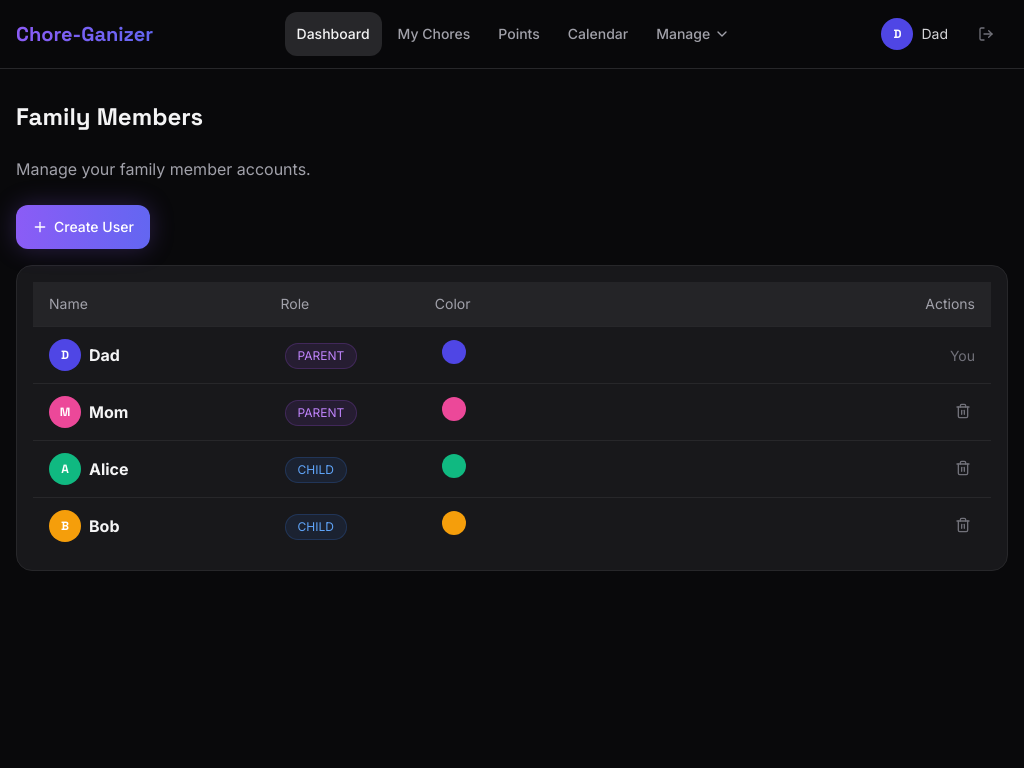
Test case: UsersPage › shows delete confirmation when delete icon clicked
Click the button named "Delete user" in the row of "Mom": {"x": 963, "y": 411} [951,399,975,423]
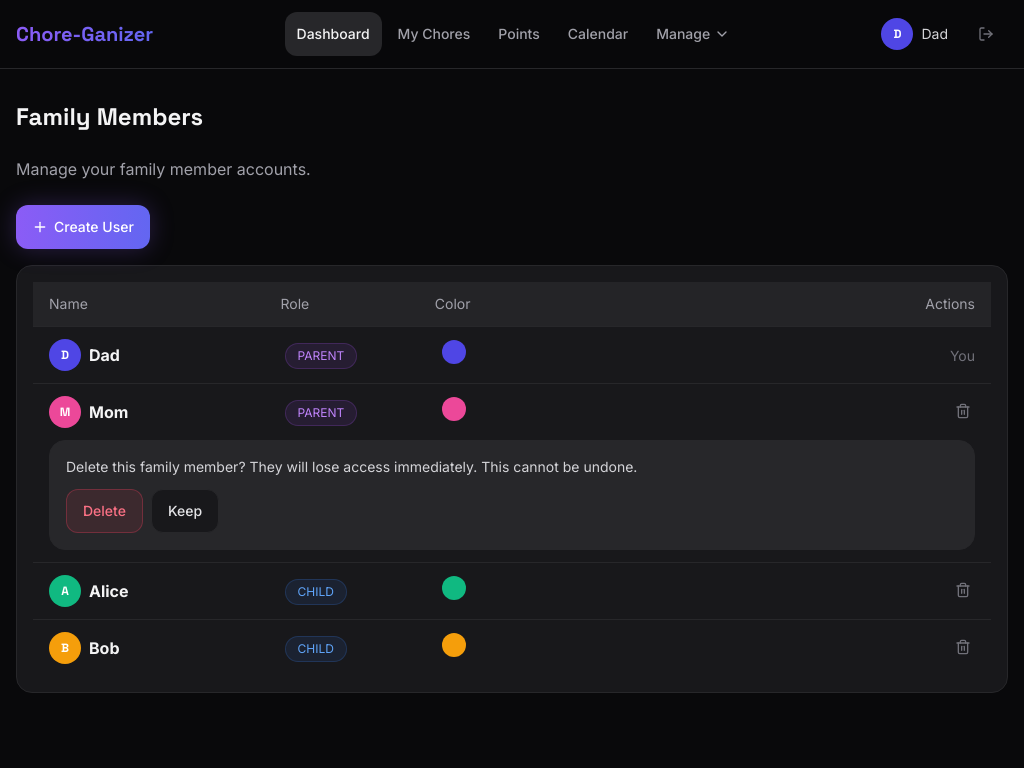
Check: the text "Delete this family member" is shown, box [66,458,637,475]
